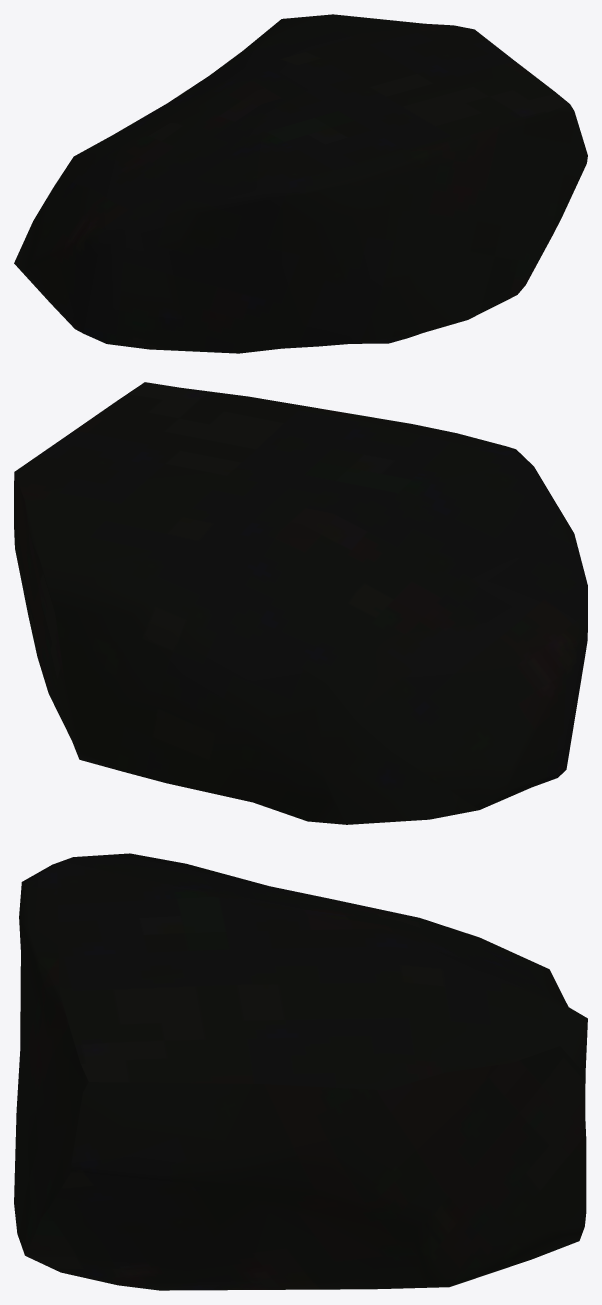
3 views of the same model, one above another, from view 1: azimuth 30°, elevation 25°; view 2: azimuth 150°, elevation 25°; view 3: azimuth 270°, elevation 25° (orthographic). The views are drawn at different scales.
Parts seen in each view (by area): view 1: SM_BM_LimestoneSm_03_LOD0; view 2: SM_BM_LimestoneSm_03_LOD0; view 3: SM_BM_LimestoneSm_03_LOD0.
Boxes of the visible parts, x1=… form: SM_BM_LimestoneSm_03_LOD0: x1=14, y1=14, x2=587, y2=353; SM_BM_LimestoneSm_03_LOD0: x1=14, y1=382, x2=587, y2=824; SM_BM_LimestoneSm_03_LOD0: x1=14, y1=853, x2=587, y2=1290.
Bounding box in the file's own units: 0.6433 × 0.2637 × 0.5043.
Materials: 1 (1 with a texture image).
